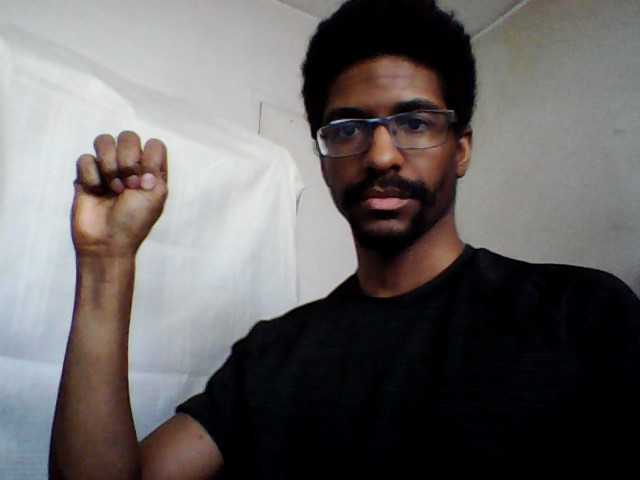m: (66, 126, 173, 252)
